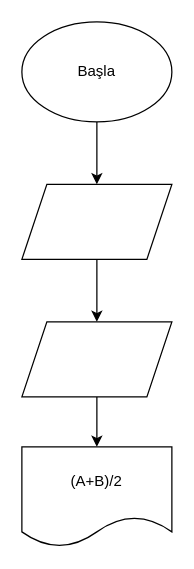
This 194x569 diagram has some shape labels left out. Here are the shapes that lost their labels. From the top down, the centre of each, then its label:
(x=96, y=221): A sayısını girin
(x=96, y=359): B sayısını girin
